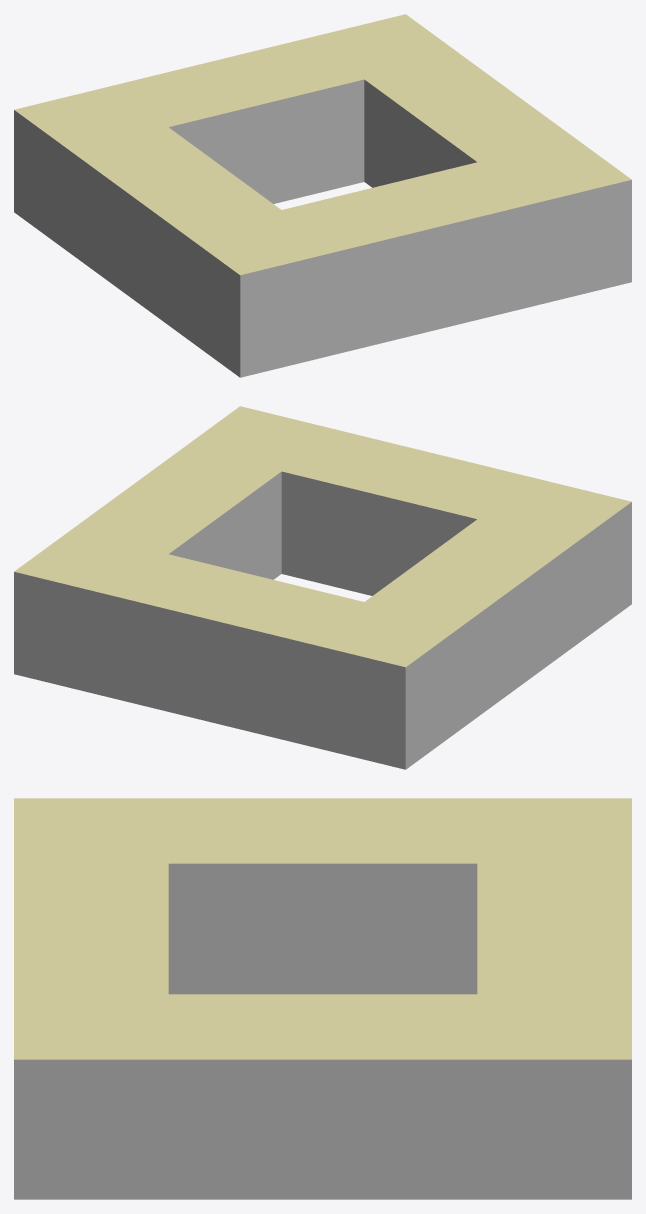
Rendered from sandbox_1.fbx.
The picture shows the model from 3 angles, top to bottom: view 1: azimuth 30°, elevation 25°; view 2: azimuth 150°, elevation 25°; view 3: azimuth 270°, elevation 25°; orthographic projection. The views are drawn at different scales.
Parts seen in each view (by area): view 1: ceiling, walls_007, walls_008, walls_001, walls_002; view 2: ceiling, walls_005, walls_008, walls_003, walls_002; view 3: ceiling, walls_006, walls_004.
Part boxes in pixels (box(x1,y1,x2,y2)): ceiling: box(14, 14, 631, 275); walls_007: box(240, 180, 631, 377); walls_008: box(14, 110, 240, 377); walls_001: box(169, 79, 364, 203); walls_002: box(364, 79, 476, 187); ceiling: box(14, 406, 631, 667); walls_005: box(14, 572, 405, 769); walls_008: box(405, 502, 631, 769); walls_003: box(281, 471, 476, 595); walls_002: box(169, 471, 281, 579); ceiling: box(14, 798, 631, 1059); walls_006: box(14, 1059, 631, 1199); walls_004: box(168, 863, 477, 994).
Bounding box in the file's own units: 40 × 10 × 40.
